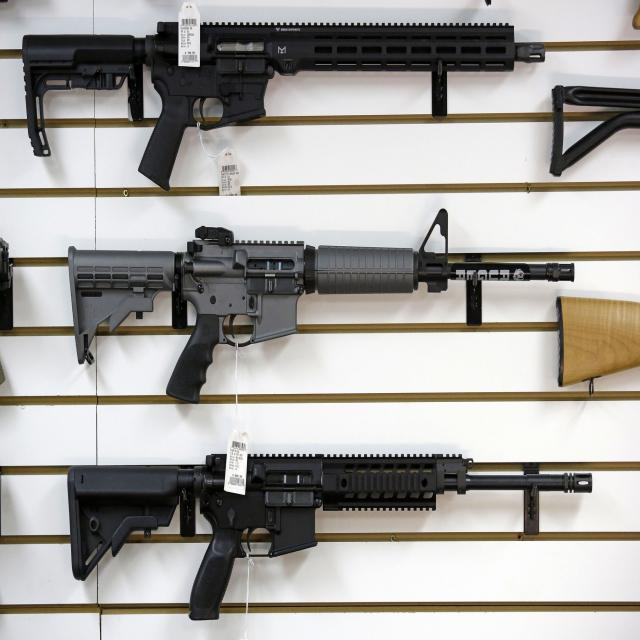Weapon: (68, 210, 574, 403), (22, 13, 545, 190), (68, 452, 593, 620)
